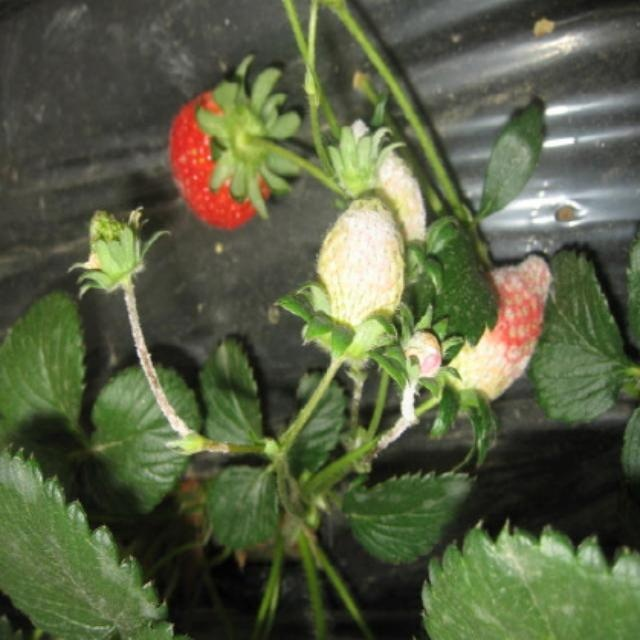Powdery Mildew Fruit: (402, 252, 554, 412), (304, 194, 406, 363), (340, 119, 428, 301)
